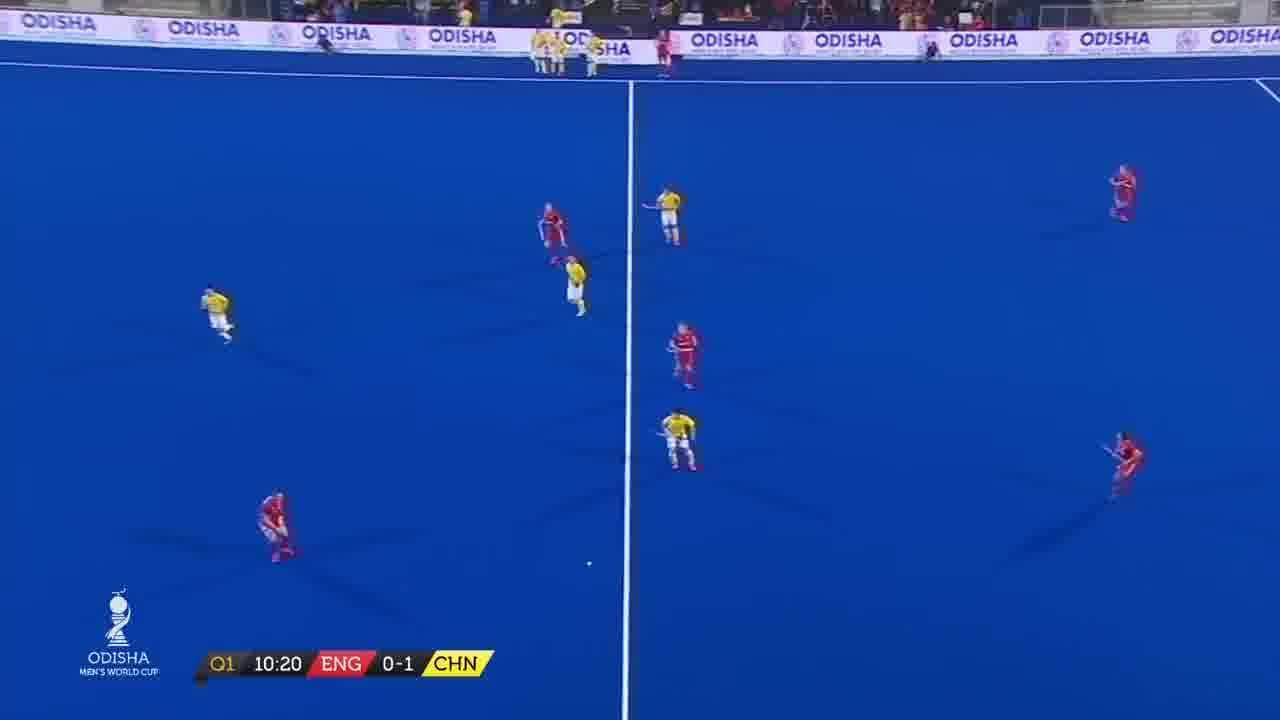ball: (587, 558, 592, 570)
